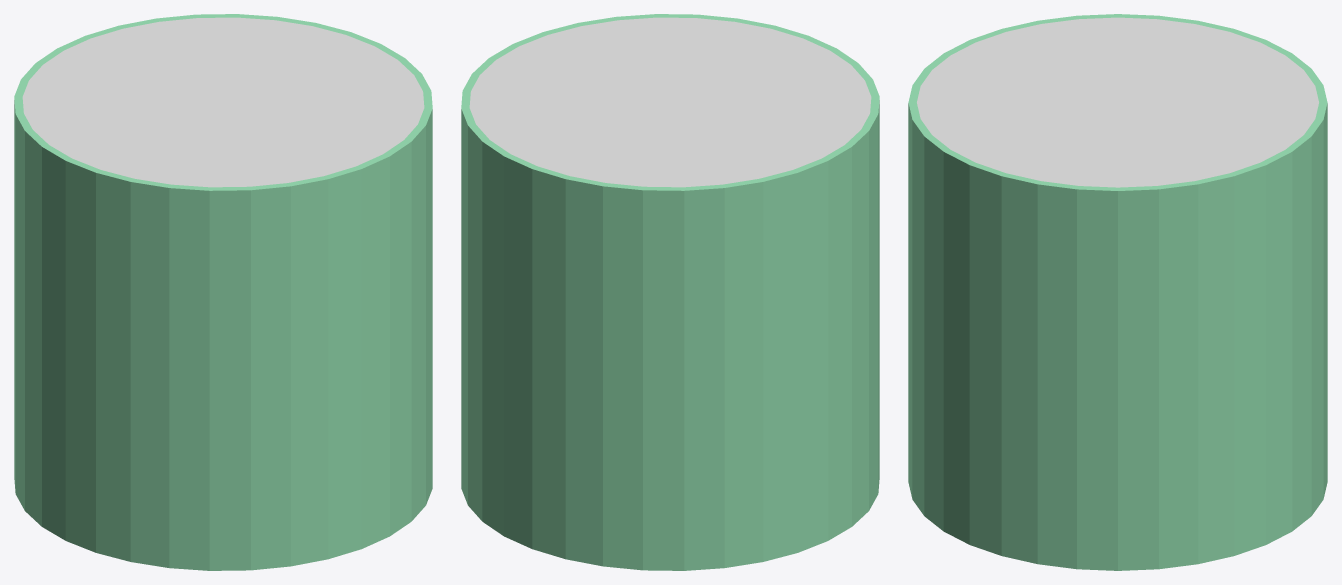
The model's file is green-pipe.glb.
The picture shows the model from 3 angles, left to right: view 1: azimuth 30°, elevation 25°; view 2: azimuth 150°, elevation 25°; view 3: azimuth 270°, elevation 25°; orthographic projection.
Parts seen in each view (by area): view 1: Cylinder, Cylinder.001; view 2: Cylinder, Cylinder.001; view 3: Cylinder, Cylinder.001.
Part boxes in pixels (<box>): Cylinder: <box>14,14,432,570</box>; Cylinder.001: <box>22,17,424,187</box>; Cylinder: <box>461,14,879,570</box>; Cylinder.001: <box>469,17,871,187</box>; Cylinder: <box>908,14,1327,570</box>; Cylinder.001: <box>917,17,1318,187</box>.
Size of the model in its own units: 1 by 1 by 1.
